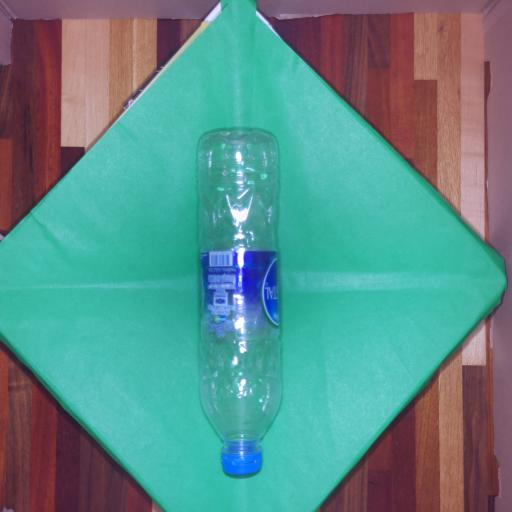bottle: (196, 125, 285, 477)
